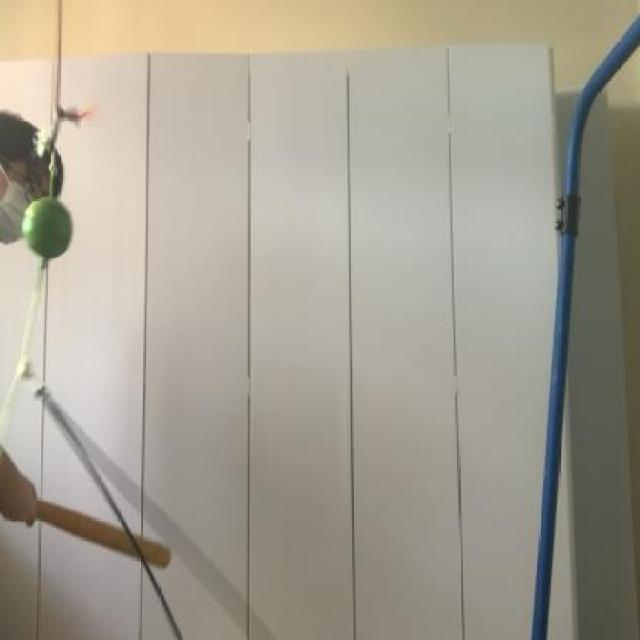baseball: (19, 184, 83, 264)
